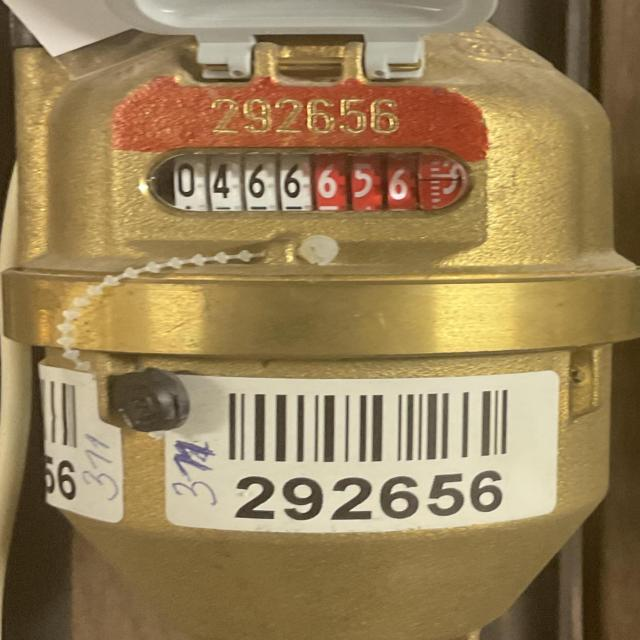gaz_meter: (14, 42, 620, 273)
indication: (164, 151, 463, 211)
